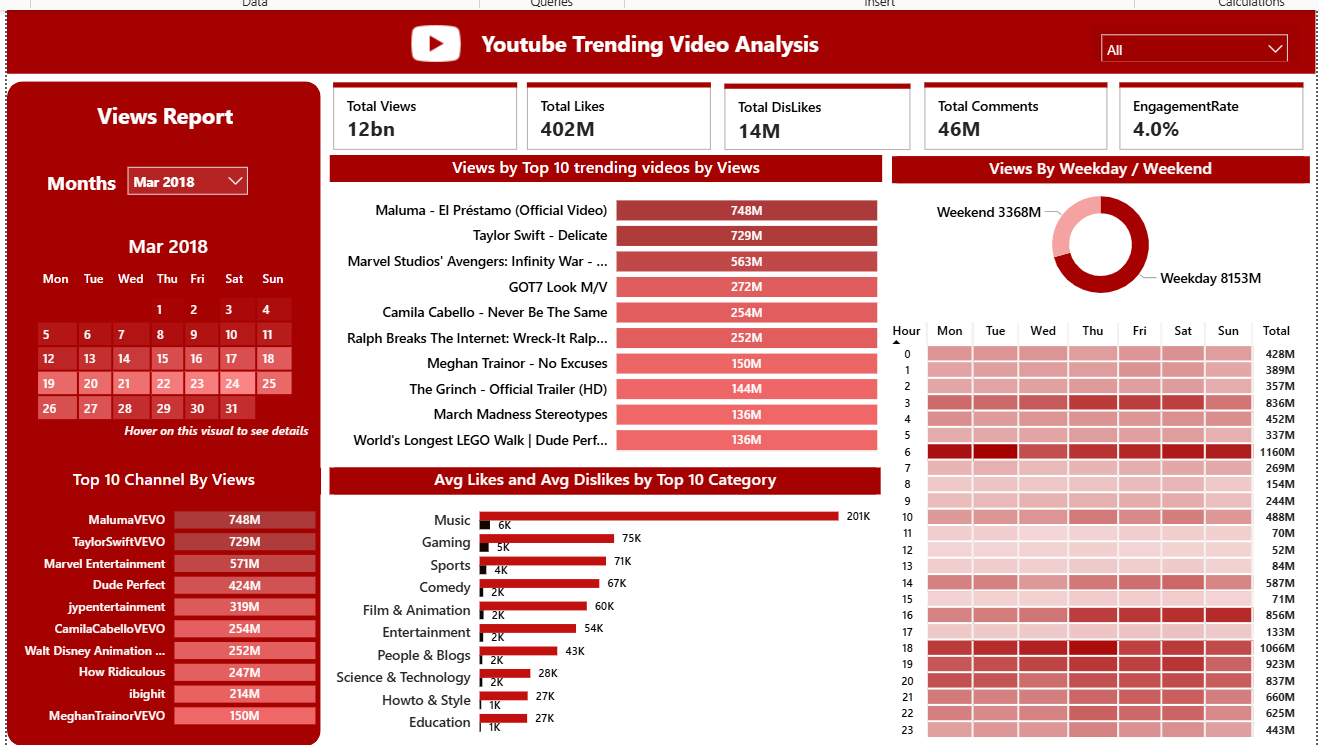

The page's visual inventory and layout, read from the dashboard file:
{"tool":"powerbi","page":{"name":"Page ","canvas":[1280,720],"ordinal":0},"visuals":[{"type":"shape","box":[0,0,1280.3,62.4],"z":0},{"type":"cardVisual","fields":{"Data":["USvideos.Total Views"]},"box":[314.5,66.4,190.4,76.5],"z":1000},{"type":"cardVisual","fields":{"Data":["USvideos.Total_Comments"]},"box":[893,66.4,189,76.5],"z":2000},{"type":"cardVisual","fields":{"Data":["USvideos.Total_DisLikes"]},"box":[697,67,192,75.8],"z":3000},{"type":"cardVisual","fields":{"Data":["USvideos.Total_Likes"]},"box":[504.3,66.4,190.4,76.5],"z":4000},{"type":"shape","box":[0,69.7,306.9,650.5],"z":5000},{"type":"cardVisual","fields":{"Data":["Avg(USvideos.EngagementRate)"]},"box":[1083.5,66.4,190.4,76.5],"z":6000},{"type":"clusteredBarChart","title":"Avg Likes and Avg Dislikes by Top 10 Category","fields":{"Category":["US_category_id__2.Category_name"],"Y":["USvideos.Avg Likes","USvideos.Avg Dislikes"]},"box":[316,447.3,539.6,272.7],"z":7000},{"type":"barChart","fields":{"Category":["USvideos.Title"],"Y":["Sum(USvideos.views)"]},"box":[315,142.4,541.1,304.3],"z":8000},{"type":"barChart","title":"Top 10 Channel By Views","fields":{"Category":["USvideos.channel_title"],"Y":["Sum(USvideos.views)"]},"box":[0,447.6,306.9,265.4],"z":9000},{"type":"pivotTable","fields":{"Rows":["Date Table.WeekNumber"],"Values":["Min(Date Table.Day Number)"],"Columns":["Date Table.Day"]},"box":[0,246,307.3,180.3],"z":10000},{"type":"slicer","fields":{"Values":["Date Table.Month Year"]},"box":[107.6,143.1,138.2,52.6],"z":11000},{"type":"card","fields":{"Values":["Min(Date Table.Month Year)"]},"box":[85.1,217.2,144.3,30.3],"z":12000},{"type":"card","fields":{"Values":["USvideos.Foot Note"]},"box":[108.2,400.4,194.8,26],"z":13000},{"type":"pivotTable","fields":{"Values":["USvideos.Total Views"],"Columns":["Date Table.Day"],"Rows":["USvideos.Hour"]},"box":[856,300.8,418.2,419.4],"z":14000},{"type":"textbox","box":[29.3,151.6,86.8,35.5],"z":15000},{"type":"textbox","box":[4.9,83.2,299.6,42.8],"z":16000},{"type":"pieChart","title":"Views By Weekday / Weekend","fields":{"Y":["USvideos.Total Views"],"Category":["Date Table.Weekday/Weekend"]},"box":[865.8,143.1,408.4,151.6],"z":17000},{"type":"slicer","fields":{"Values":["US_category_id__2.Category_name"]},"box":[1060.2,13.5,203,36.7],"z":18000}]}

Visuals, with their boxes in screenshot pixels (x1, y1, x2, y2):
shape: crop(3, 7, 1304, 70)
cardVisual - USvideos.Total Views: crop(323, 74, 517, 152)
cardVisual - USvideos.Total_Comments: crop(911, 74, 1103, 152)
cardVisual - USvideos.Total_DisLikes: crop(712, 75, 907, 152)
cardVisual - USvideos.Total_Likes: crop(516, 74, 709, 152)
shape: crop(3, 78, 315, 739)
cardVisual - Avg(USvideos.EngagementRate): crop(1105, 74, 1298, 152)
"Avg Likes and Avg Dislikes by Top 10 Category" clusteredBarChart: crop(325, 461, 873, 739)
barChart - USvideos.Title x Sum(USvideos.views): crop(324, 152, 873, 461)
"Top 10 Channel By Views" barChart: crop(3, 462, 315, 731)
pivotTable - Date Table.WeekNumber x Min(Date Table.Day Number): crop(3, 257, 316, 440)
slicer - Date Table.Month Year: crop(113, 152, 253, 206)
card - Min(Date Table.Month Year): crop(90, 228, 237, 258)
card - USvideos.Foot Note: crop(113, 414, 311, 440)
pivotTable - USvideos.Total Views x Date Table.Day: crop(873, 313, 1298, 739)
textbox: crop(33, 161, 121, 197)
textbox: crop(8, 91, 313, 135)
"Views By Weekday / Weekend" pieChart: crop(883, 152, 1298, 306)
slicer - US_category_id__2.Category_name: crop(1081, 21, 1287, 58)
